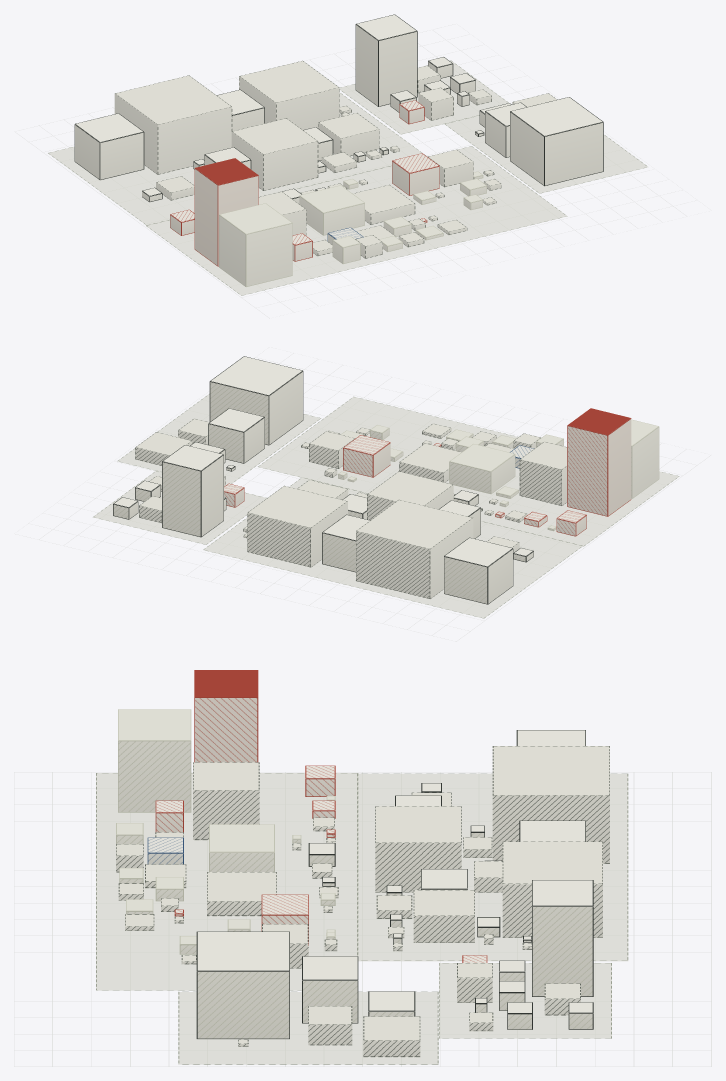
File: city.glb
3 renders of one model, top to bottom at view 1: azimuth 30°, elevation 25°; view 2: azimuth 150°, elevation 25°; view 3: azimuth 270°, elevation 25°, orthographic. The views are drawn at different scales.
Parts seen in each view (by area): view 1: ground, annex-1, mass-11, mass-40, mass-5, annex-2, annex-38, mass-12, mass-1, mass-15, annex-31, mass-35 (+14 smaller); view 2: ground, annex-1, mass-12, annex-2, mass-11, mass-5, mass-1, annex-12, mass-15, annex-38, mass-10, mass-40 (+11 smaller); view 3: ground, annex-1, mass-11, mass-40, mass-5, annex-38, annex-2, mass-12, annex-12, annex-31, mass-15, mass-10 (+23 smaller).
Boxes of the visible parts, bbox=[...] form: ground: bbox=[39, 60, 673, 295]; annex-1: bbox=[114, 75, 232, 174]; mass-11: bbox=[510, 97, 603, 186]; mass-40: bbox=[219, 203, 292, 286]; mass-5: bbox=[355, 14, 417, 106]; annex-2: bbox=[239, 60, 339, 129]; annex-38: bbox=[231, 118, 318, 190]; mass-12: bbox=[194, 158, 258, 266]; mass-1: bbox=[74, 113, 144, 180]; mass-15: bbox=[299, 185, 364, 235]; annex-31: bbox=[318, 113, 379, 155]; mass-35: bbox=[392, 153, 439, 195]; ground: bbox=[39, 363, 679, 631]; annex-1: bbox=[356, 499, 473, 598]; mass-12: bbox=[567, 408, 631, 516]; annex-2: bbox=[247, 485, 347, 567]; mass-11: bbox=[209, 356, 303, 445]; mass-5: bbox=[162, 445, 223, 537]; mass-1: bbox=[444, 537, 513, 604]; annex-12: bbox=[519, 441, 567, 505]; mass-15: bbox=[449, 444, 515, 494]; annex-38: bbox=[367, 471, 453, 520]; mass-10: bbox=[208, 408, 264, 463]; mass-40: bbox=[631, 419, 659, 498]; ground: bbox=[14, 772, 711, 1066]; annex-1: bbox=[492, 746, 609, 863]; mass-11: bbox=[196, 931, 289, 1038]; mass-40: bbox=[118, 709, 191, 812]; mass-5: bbox=[532, 880, 593, 996]; annex-38: bbox=[375, 806, 461, 892]; annex-2: bbox=[502, 841, 602, 937]; mass-12: bbox=[194, 670, 258, 762]; annex-12: bbox=[193, 762, 259, 839]; annex-31: bbox=[413, 890, 474, 942]; mass-15: bbox=[209, 824, 274, 871]; mass-10: bbox=[302, 956, 358, 1023].
Size of what is drawn, in the model's own units: 920 by 162 by 920.
Materials: 71 (7 with a texture image).
